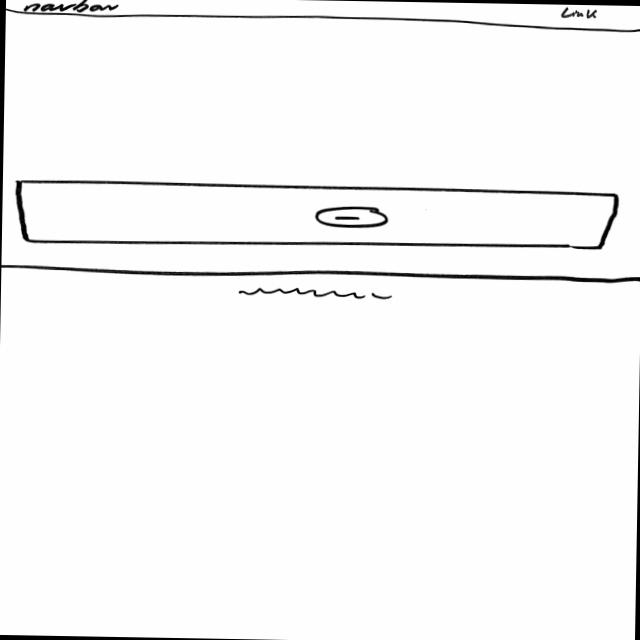container: (14, 178, 621, 255), (6, 1, 640, 35)
icon-button: (316, 207, 390, 230)
label: (21, 1, 123, 13), (560, 6, 603, 22)
text: (229, 287, 399, 303)
